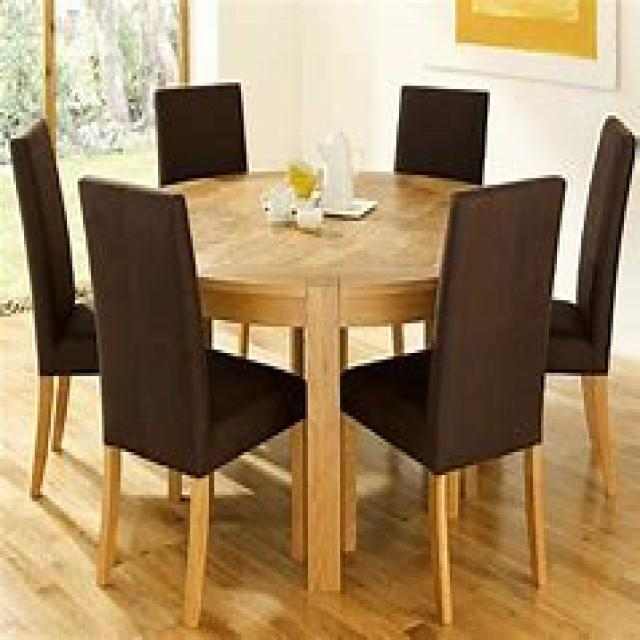chair: (75, 171, 308, 627), (337, 172, 565, 624)
